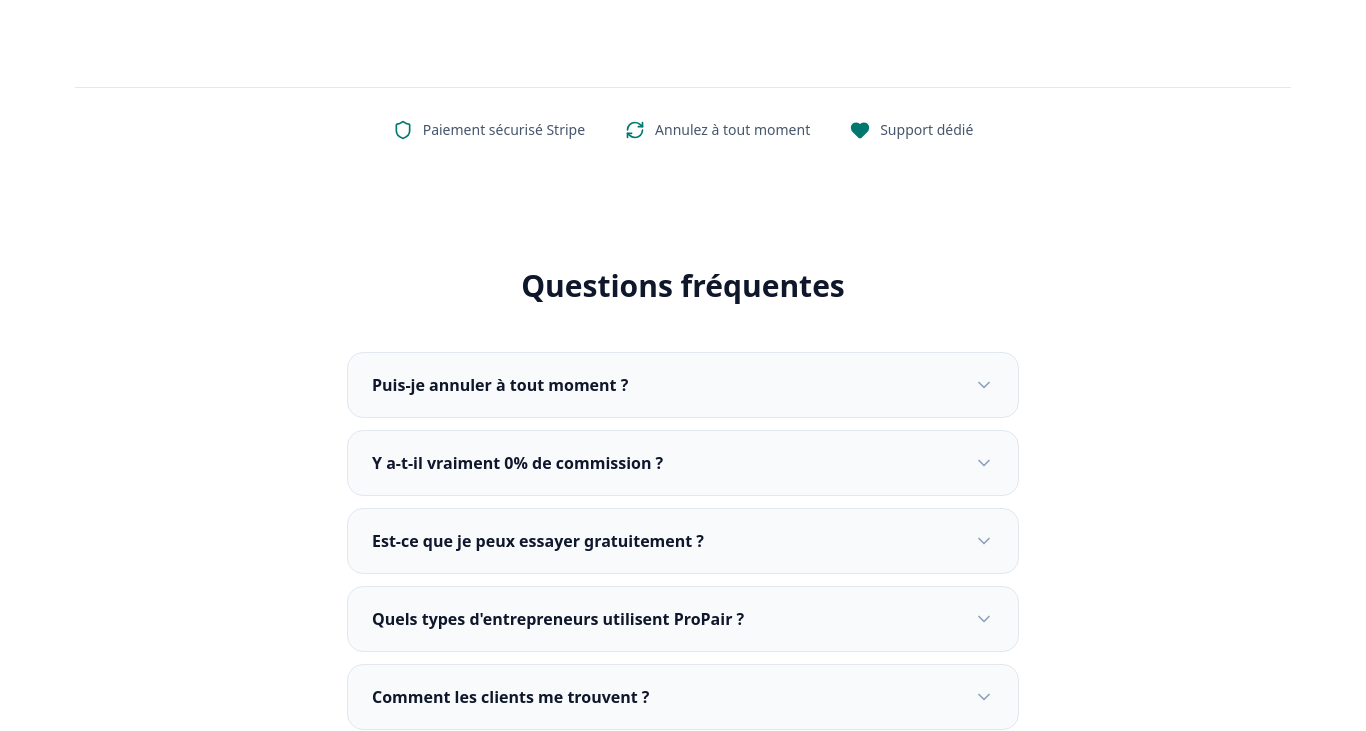
Pricing › clicking FAQ question toggles answer
This screenshot has width=1366, height=731.
(page scrolled)
Click the button "Puis-je annuler à tout moment ?": coordinates (500, 384) 348,352 -> 1018,416
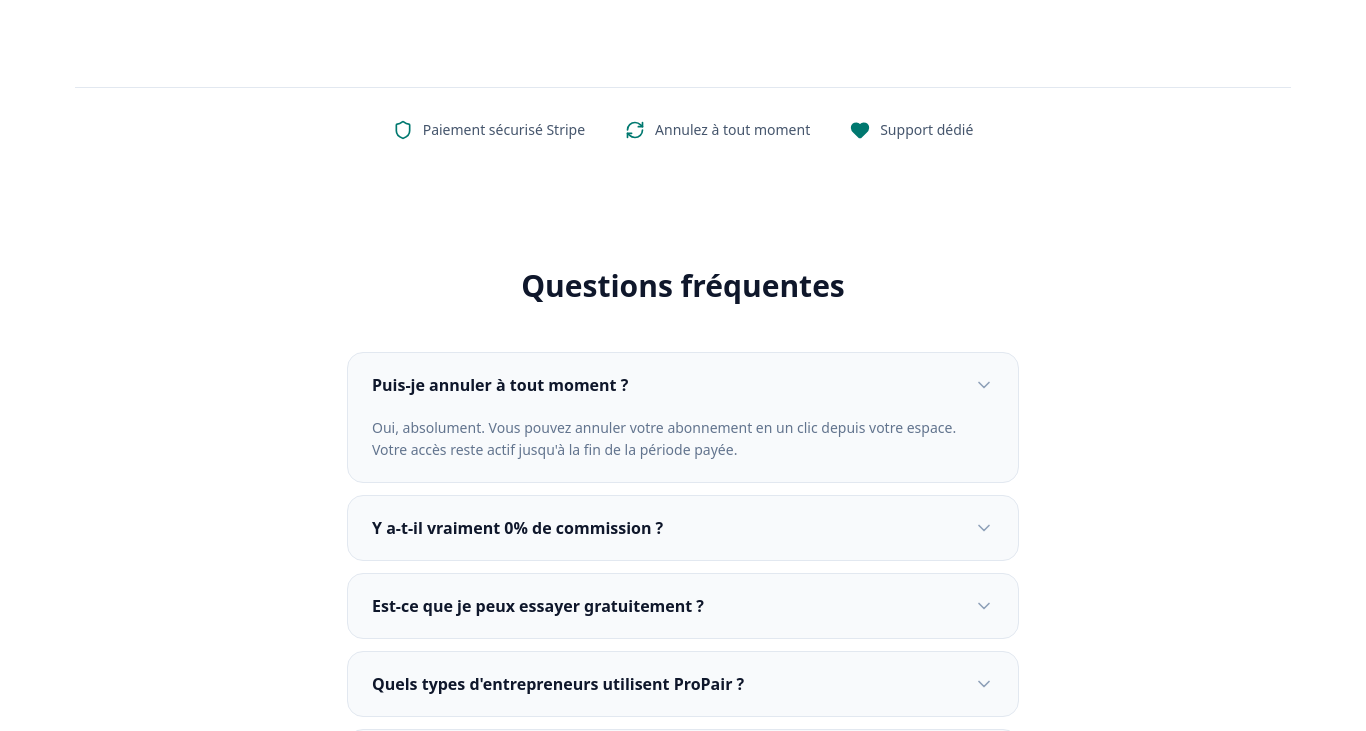
Expected: the text "Vous pouvez annuler votre abonnement en un clic" is shown, 372,418 -> 956,459
